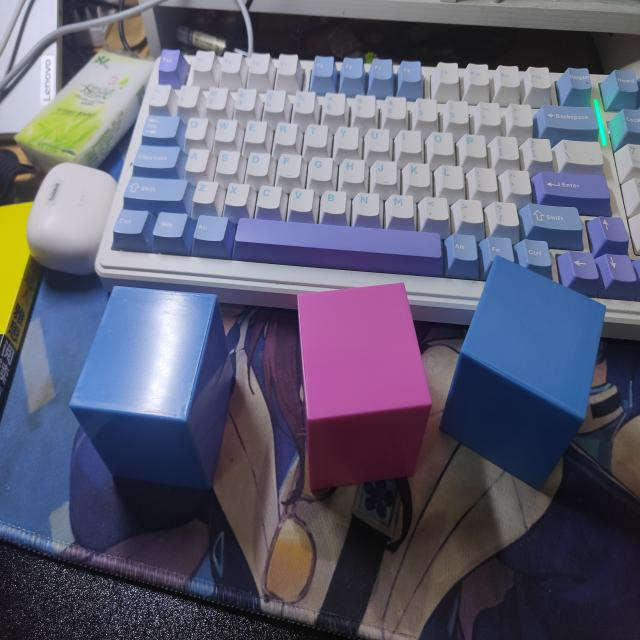blue: (440, 258, 607, 494), (68, 282, 236, 492)
pink: (297, 285, 432, 496)
